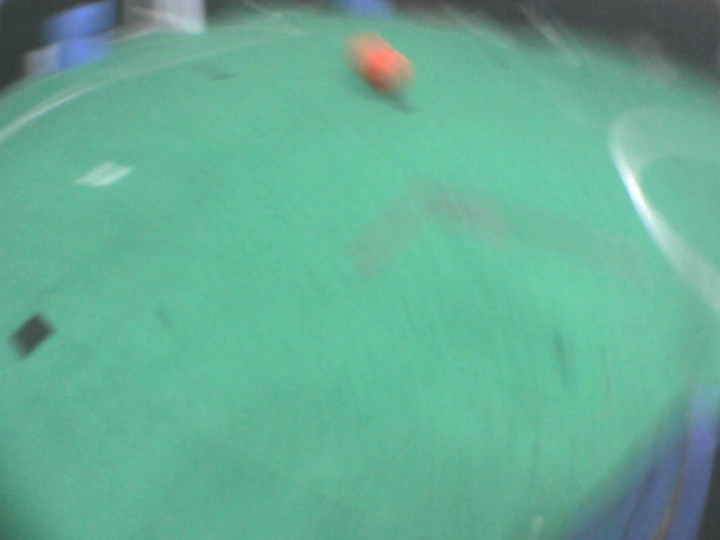bola: (354, 44, 412, 101)
